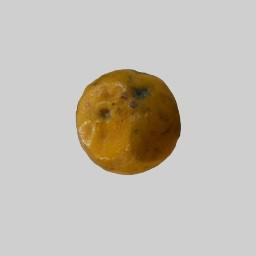Unripe: (78, 68, 181, 174)
